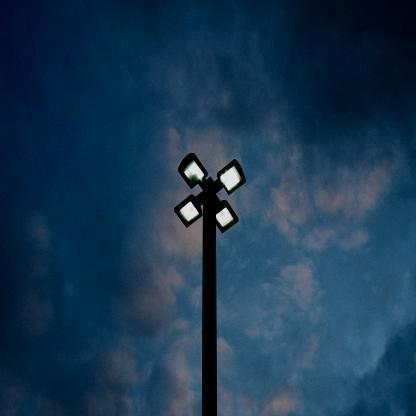light_pole: (175, 153, 247, 416)
